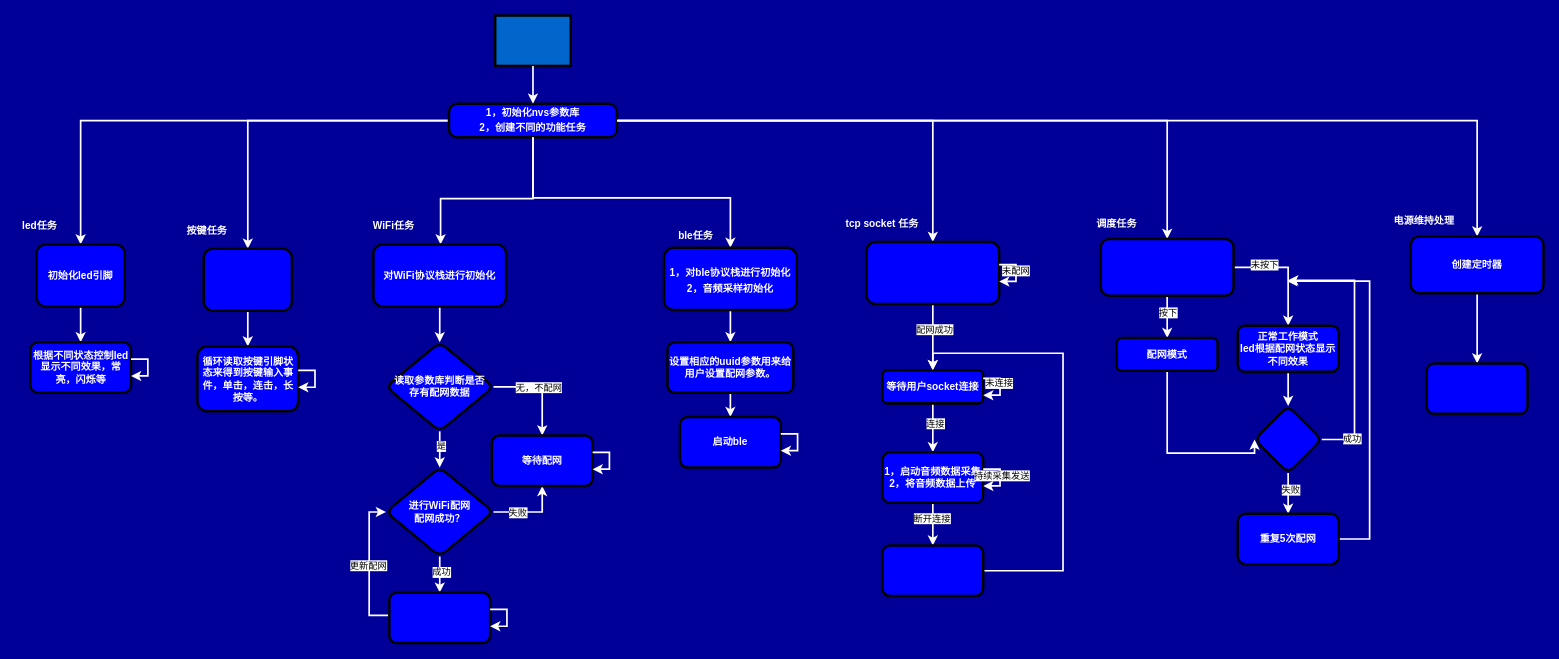
Image size: 1559x659. Some labels were removed from this diagram. The box of each missing label's shape, as (x1, y1, x2, y2) in pixels:
BS01 app start: (494, 14, 572, 67)
上电判断按键是否按下？: (1099, 237, 1234, 297)
停止音频数据采集和上传: (881, 544, 984, 597)
初始化按键引脚: (202, 247, 293, 312)
判断是否有新的配网参数（更新WiFi）: (388, 591, 491, 644)
循环执行 间隔20秒输出1秒高电平给电源控制芯片: (1425, 362, 1528, 415)
等待WiFi配网成功: (865, 240, 1000, 305)
配网成功？: (1253, 404, 1323, 474)
